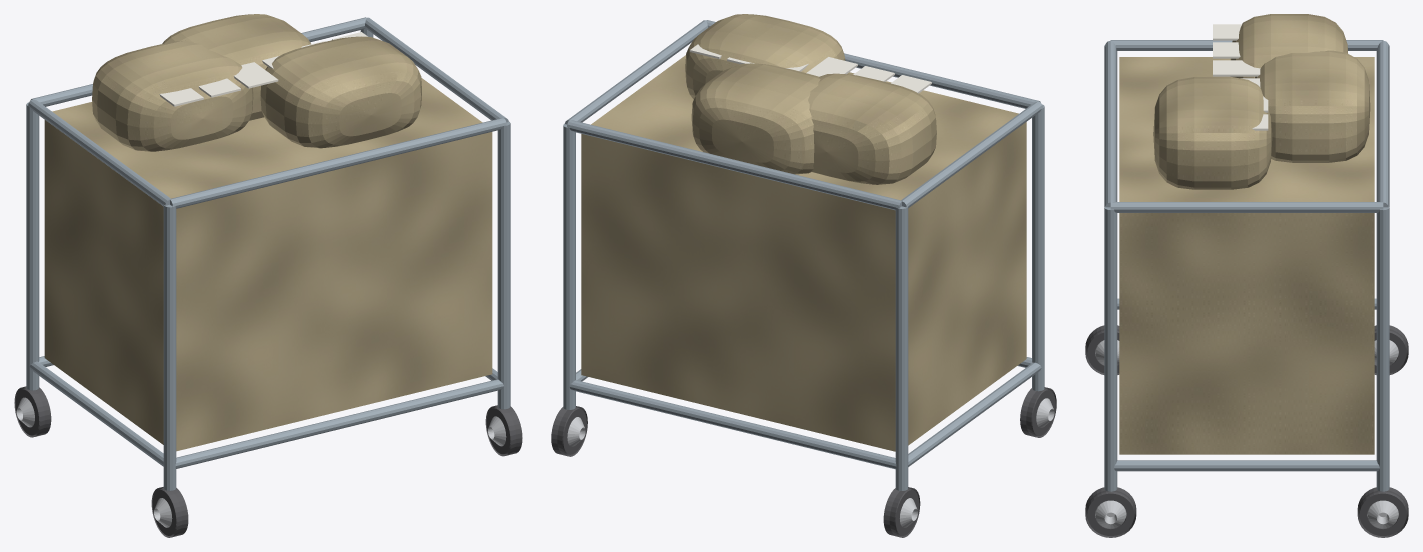
Rendered from carrinho_correspondencia.glb.
3 views of the same model, side by side, from view 1: azimuth 30°, elevation 25°; view 2: azimuth 150°, elevation 25°; view 3: azimuth 270°, elevation 25° (orthographic).
Parts seen in each view (by area): view 1: carrinho_correspondencia_lona_crua, carrinho_correspondencia_aco_pintado, carrinho_correspondencia_borracha, carrinho_correspondencia_papel, carrinho_correspondencia_aco; view 2: carrinho_correspondencia_lona_crua, carrinho_correspondencia_aco_pintado, carrinho_correspondencia_borracha, carrinho_correspondencia_papel, carrinho_correspondencia_aco; view 3: carrinho_correspondencia_lona_crua, carrinho_correspondencia_aco_pintado, carrinho_correspondencia_borracha, carrinho_correspondencia_aco, carrinho_correspondencia_papel.
Part boxes in pixels (x1,y1,x2,y2): carrinho_correspondencia_lona_crua: [44, 14, 492, 451]; carrinho_correspondencia_aco_pintado: [26, 17, 510, 490]; carrinho_correspondencia_borracha: [14, 386, 522, 537]; carrinho_correspondencia_papel: [159, 32, 367, 106]; carrinho_correspondencia_aco: [16, 397, 506, 527]; carrinho_correspondencia_lona_crua: [581, 14, 1026, 451]; carrinho_correspondencia_aco_pintado: [563, 20, 1044, 490]; carrinho_correspondencia_borracha: [551, 387, 1056, 537]; carrinho_correspondencia_papel: [690, 44, 931, 93]; carrinho_correspondencia_aco: [567, 398, 1054, 527]; carrinho_correspondencia_lona_crua: [1119, 14, 1374, 454]; carrinho_correspondencia_aco_pintado: [1104, 40, 1389, 491]; carrinho_correspondencia_borracha: [1085, 325, 1408, 537]; carrinho_correspondencia_aco: [1095, 340, 1398, 528]; carrinho_correspondencia_papel: [1213, 24, 1268, 130].
Size of the model in its own units: 0.97 by 0.9994 by 0.76.
Materials: 5 (1 with a texture image).
